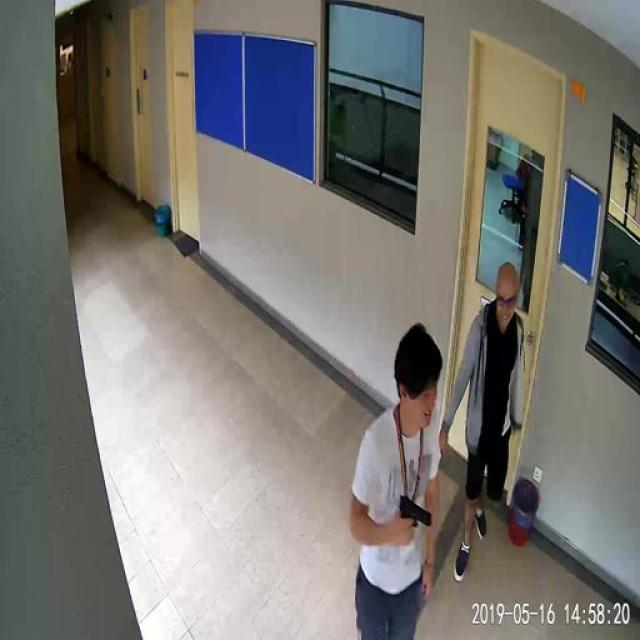Gun: (387, 493, 441, 544)
